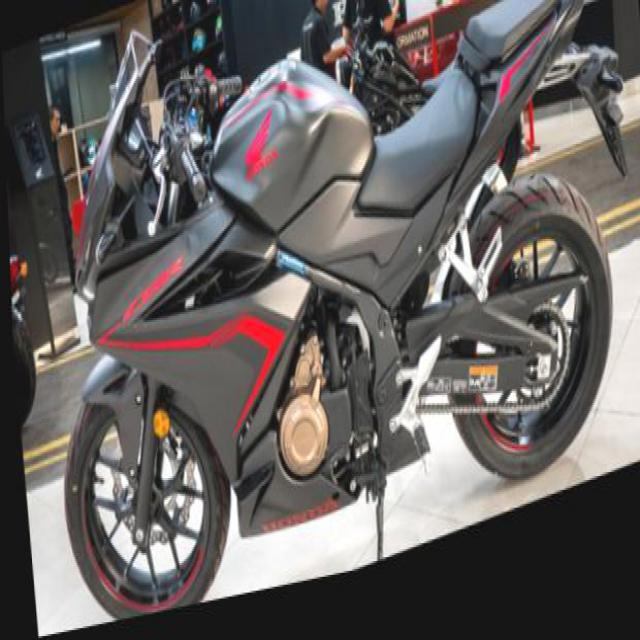CBR500R: (23, 0, 639, 636)
